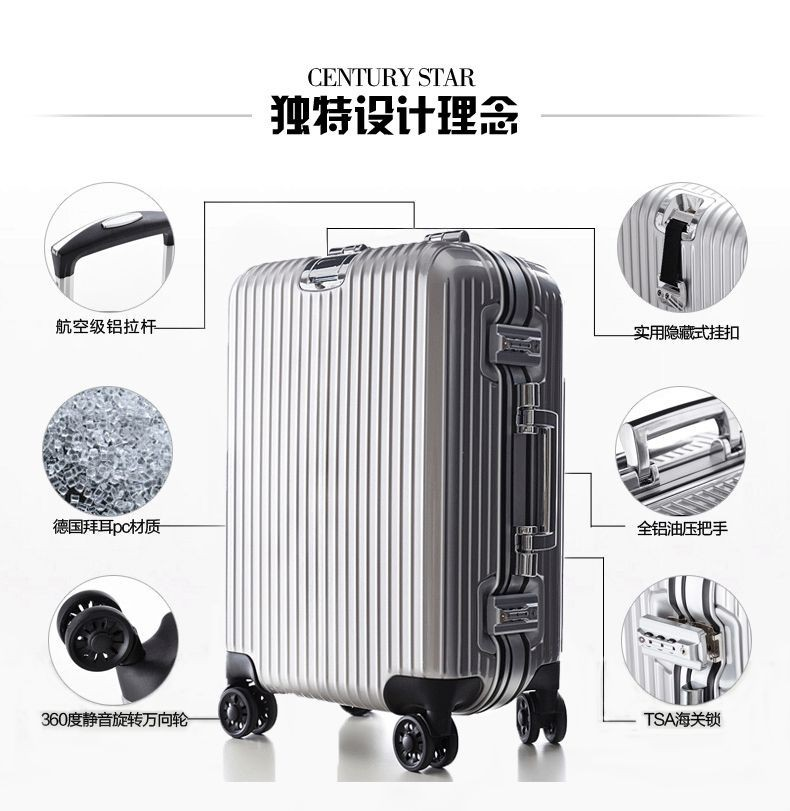suitcase: (218, 228, 570, 771)
